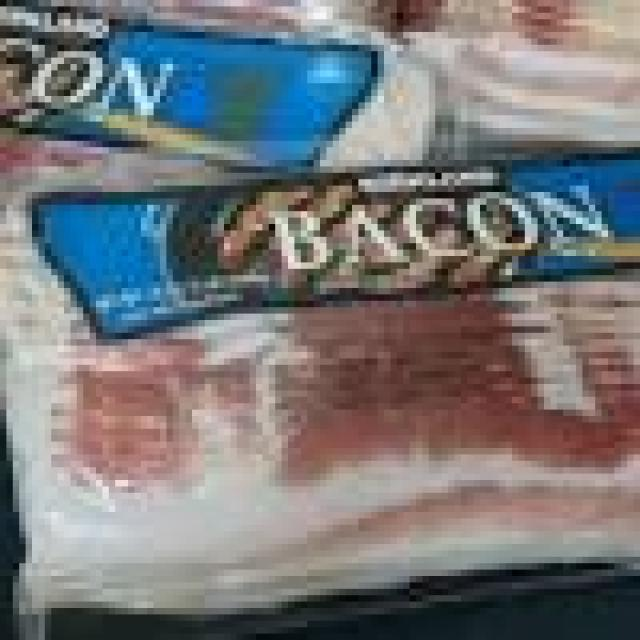bacon: (1, 174, 640, 606)
